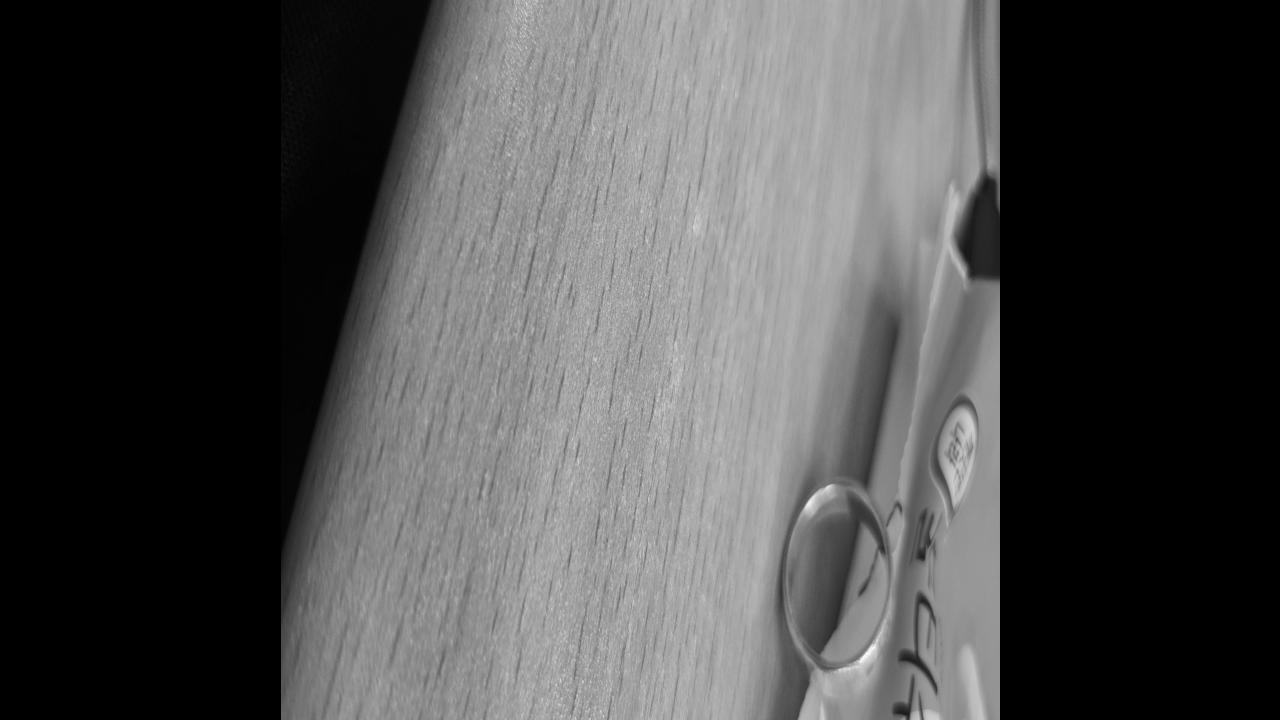ring: (777, 475, 895, 704)
